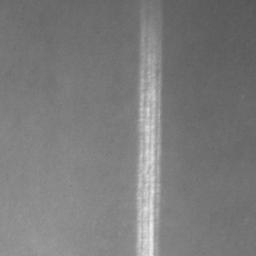Bright scratch: (136, 0, 164, 256)
